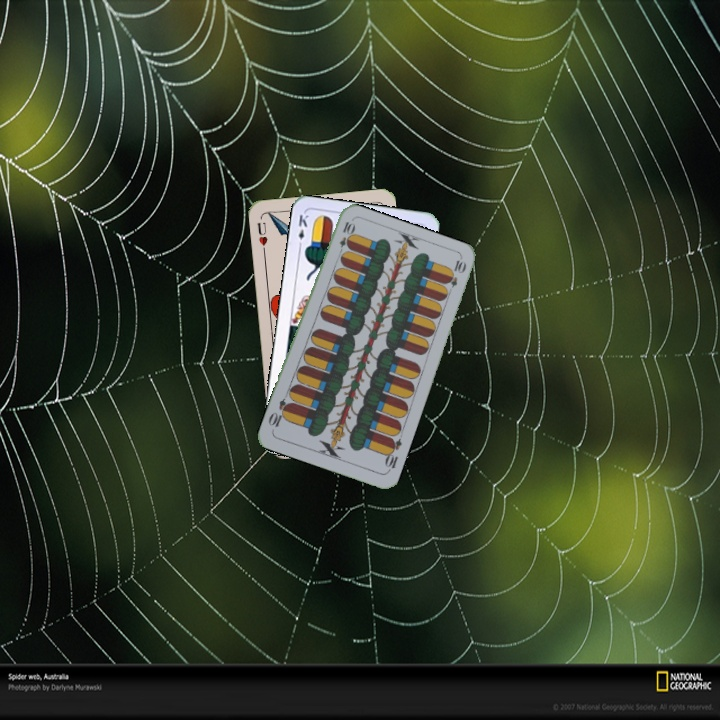E10: (381, 434, 404, 474), (335, 217, 356, 258)
EK: (294, 210, 311, 251)
HU: (253, 218, 270, 255)
